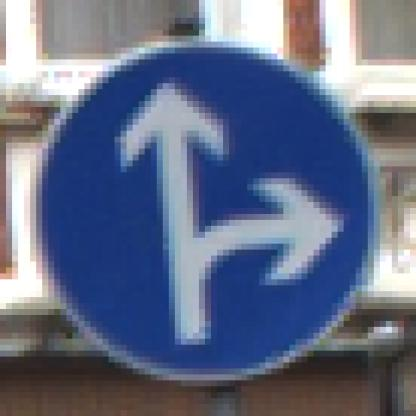Straight or Right: (37, 43, 381, 381)
